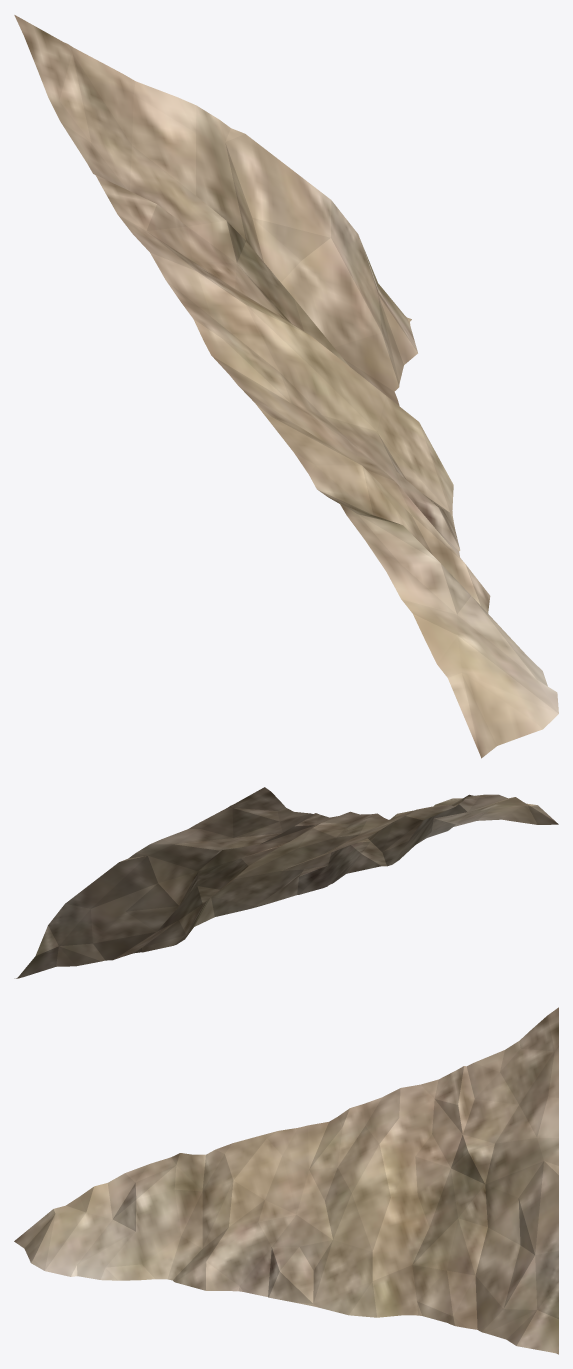
3 views of the same model, one above another, from view 1: azimuth 30°, elevation 25°; view 2: azimuth 150°, elevation 25°; view 3: azimuth 270°, elevation 25° (orthographic). The views are drawn at different scales.
Bounding box in the file's own units: 0.8655 × 0.8348 × 1.76.
Materials: 1 (1 with a texture image).
